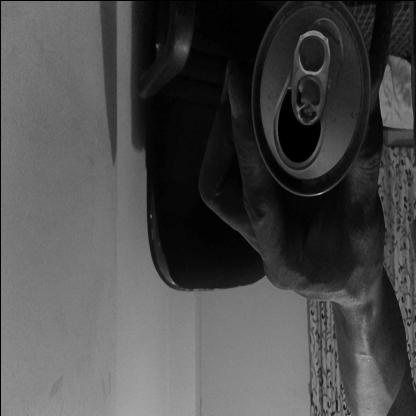alumunium_can: (250, 0, 372, 198)
